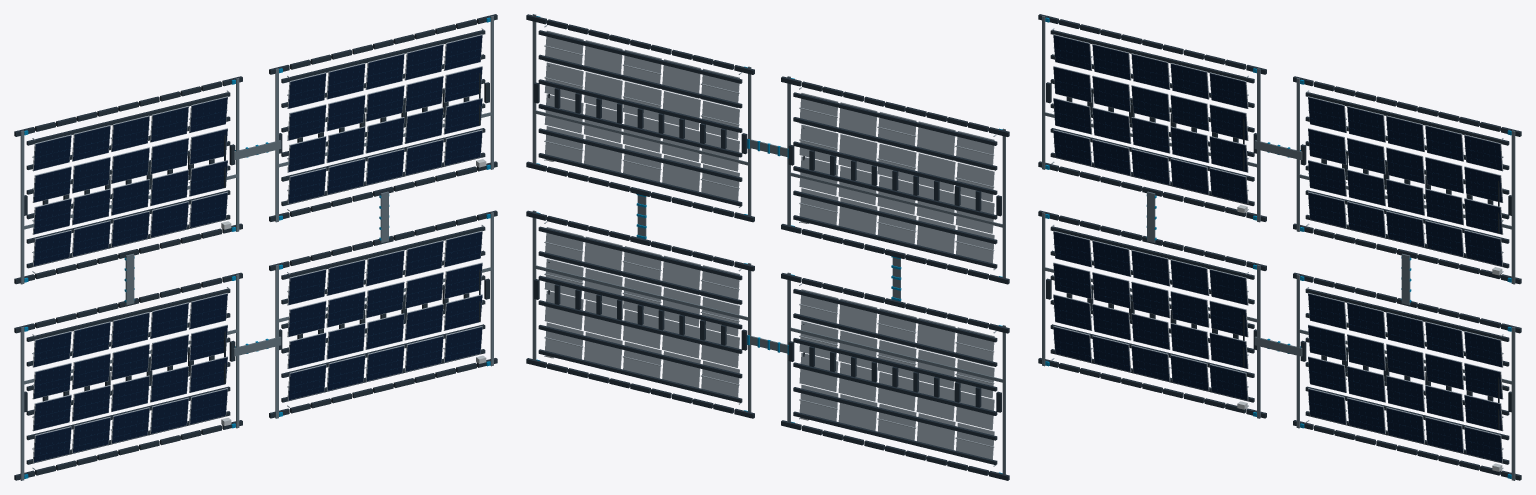
The model's file is floating_solar_array.glb.
3 views of the same model, side by side, from view 1: azimuth 30°, elevation 25°; view 2: azimuth 150°, elevation 25°; view 3: azimuth 330°, elevation 25° (orthographic).
Visible parts, largest first — view 1: Longitudinal float_38, Longitudinal float_303, Longitudinal float_568, Longitudinal float_833, Dark photovoltaic glass_168, Dark photovoltaic glass_718, Dark photovoltaic glass_124, Dark photovoltaic glass_135, Dark photovoltaic glass_188, Dark photovoltaic glass_198, Dark photovoltaic glass_316, Dark photovoltaic glass_676 (+80 smaller); view 2: Longitudinal float_34, Longitudinal float_33, Longitudinal float_36, Longitudinal float_299, Longitudinal float_37, Longitudinal float_298, Longitudinal float_301, Longitudinal float_302, Longitudinal float_303, Longitudinal float_563, Longitudinal float_564, Longitudinal float_566 (+104 smaller); view 3: Longitudinal float_303, Longitudinal float_38, Longitudinal float_833, Longitudinal float_568, Dark photovoltaic glass_327, Dark photovoltaic glass_349, Dark photovoltaic glass_899, Dark photovoltaic glass_316, Dark photovoltaic glass_369, Dark photovoltaic glass_379, Dark photovoltaic glass_389, Dark photovoltaic glass_400 (+80 smaller).
Part boxes in pixels (bbox=[...]): Longitudinal float_38: bbox=[26, 288, 230, 341]; Longitudinal float_303: bbox=[281, 226, 485, 279]; Longitudinal float_568: bbox=[26, 92, 230, 145]; Longitudinal float_833: bbox=[281, 30, 485, 83]; Dark photovoltaic glass_168: bbox=[151, 398, 188, 433]; Dark photovoltaic glass_718: bbox=[151, 139, 188, 173]; Dark photovoltaic glass_124: bbox=[112, 408, 149, 443]; Dark photovoltaic glass_135: bbox=[112, 376, 149, 411]; Dark photovoltaic glass_188: bbox=[151, 335, 188, 370]; Dark photovoltaic glass_198: bbox=[151, 303, 188, 338]; Dark photovoltaic glass_316: bbox=[288, 333, 325, 368]; Dark photovoltaic glass_676: bbox=[112, 148, 149, 183]; Longitudinal float_34: bbox=[793, 387, 997, 440]; Longitudinal float_33: bbox=[793, 411, 997, 465]; Longitudinal float_36: bbox=[793, 338, 997, 391]; Longitudinal float_299: bbox=[538, 325, 742, 378]; Longitudinal float_37: bbox=[793, 313, 997, 366]; Longitudinal float_298: bbox=[538, 349, 742, 402]; Longitudinal float_301: bbox=[538, 275, 742, 329]; Longitudinal float_302: bbox=[538, 251, 742, 304]; Longitudinal float_303: bbox=[538, 226, 742, 280]; Longitudinal float_563: bbox=[793, 215, 997, 268]; Longitudinal float_564: bbox=[793, 190, 997, 244]; Longitudinal float_566: bbox=[793, 141, 997, 194]; Longitudinal float_303: bbox=[1305, 288, 1509, 341]; Longitudinal float_38: bbox=[1050, 226, 1254, 279]; Longitudinal float_833: bbox=[1305, 92, 1509, 145]; Longitudinal float_568: bbox=[1050, 30, 1254, 83]; Dark photovoltaic glass_327: bbox=[1308, 325, 1345, 360]; Dark photovoltaic glass_349: bbox=[1347, 398, 1384, 433]; Dark photovoltaic glass_899: bbox=[1347, 139, 1384, 173]; Dark photovoltaic glass_316: bbox=[1308, 357, 1345, 392]; Dark photovoltaic glass_369: bbox=[1347, 335, 1384, 370]; Dark photovoltaic glass_379: bbox=[1347, 303, 1384, 338]; Dark photovoltaic glass_389: bbox=[1386, 408, 1423, 443]; Dark photovoltaic glass_400: bbox=[1386, 376, 1423, 411].
Bounding box in the file's own units: 71.85 × 49.8 × 1.64.
